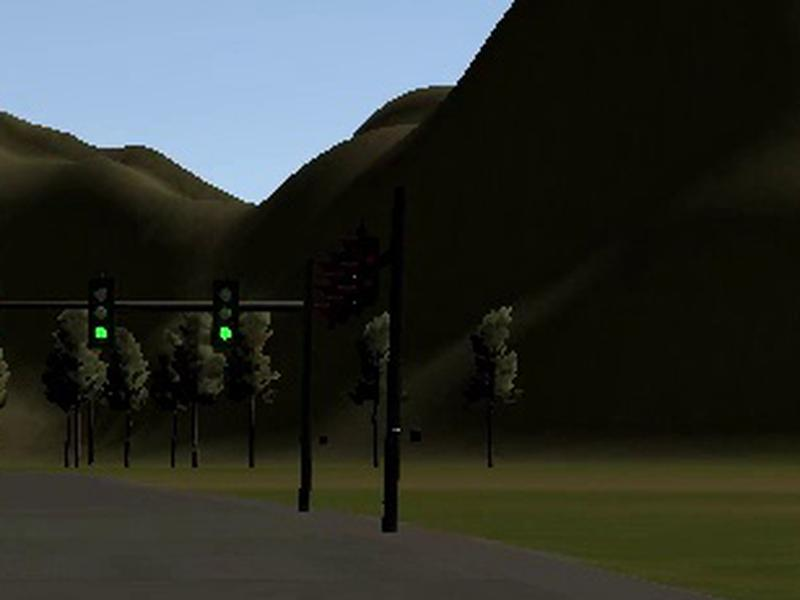Green: (211, 281, 239, 350), (88, 277, 115, 348)
